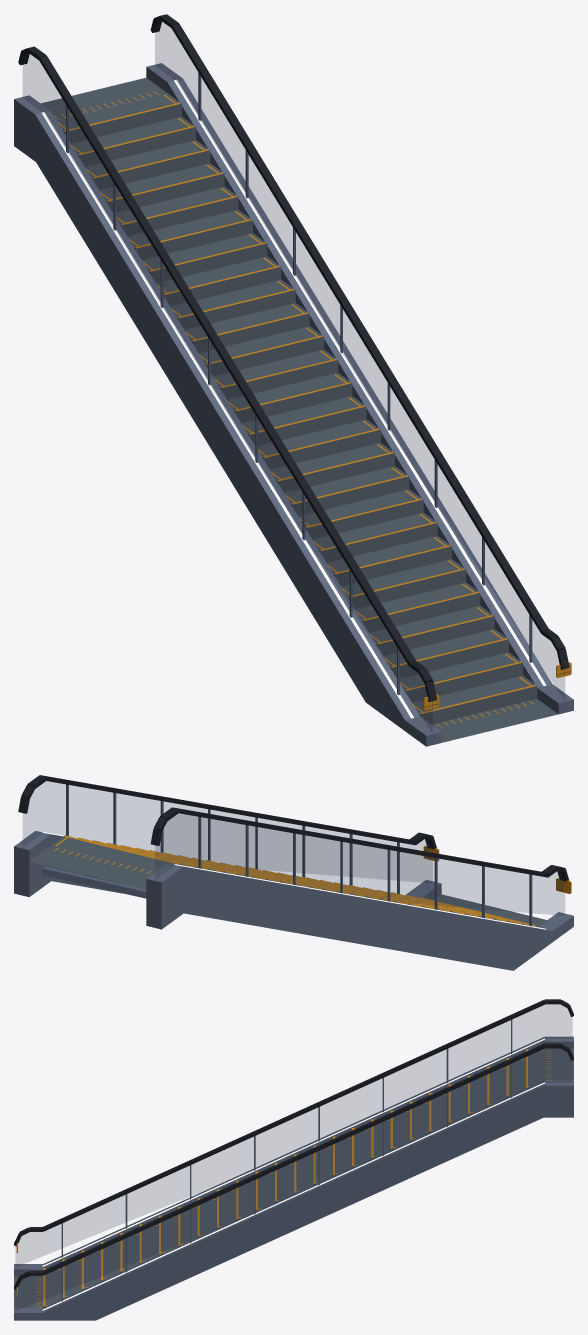
Rendered from mall_escalator.glb.
3 views of the same model, one above another, from view 1: azimuth 30°, elevation 25°; view 2: azimuth 150°, elevation 25°; view 3: azimuth 270°, elevation 25° (orthographic). The views are drawn at different scales.
Parts seen in each view (by area): view 1: comb, skirt, balustrade, handrail, comb_tooth, skirt_light, glass_joint; view 2: balustrade, skirt, comb, handrail, glass_joint, comb_tooth, skirt_light; view 3: balustrade, skirt, comb, handrail, comb_tooth, skirt_light, glass_joint.
Boxes of the visible parts, bbox=[...] form: comb: bbox=[41, 77, 558, 742]; skirt: bbox=[14, 63, 573, 746]; balustrade: bbox=[23, 21, 564, 732]; handrail: bbox=[18, 14, 569, 701]; comb_tooth: bbox=[54, 91, 571, 727]; skirt_light: bbox=[42, 79, 546, 718]; glass_joint: bbox=[66, 72, 532, 695]; balustrade: bbox=[23, 781, 564, 914]; skirt: bbox=[14, 831, 573, 970]; comb: bbox=[30, 835, 546, 927]; handrail: bbox=[18, 775, 569, 881]; glass_joint: bbox=[42, 784, 532, 926]; comb_tooth: bbox=[54, 835, 571, 926]; skirt_light: bbox=[42, 831, 546, 929]; balustrade: bbox=[16, 1005, 571, 1309]; skirt: bbox=[14, 1036, 573, 1320]; comb: bbox=[14, 1049, 573, 1307]; handrail: bbox=[14, 999, 573, 1289]; comb_tooth: bbox=[16, 1049, 551, 1307]; skirt_light: bbox=[42, 1038, 544, 1310]; glass_joint: bbox=[61, 1019, 512, 1301].
Size of the model in its own units: 2.4 by 6.25 by 11.6.
